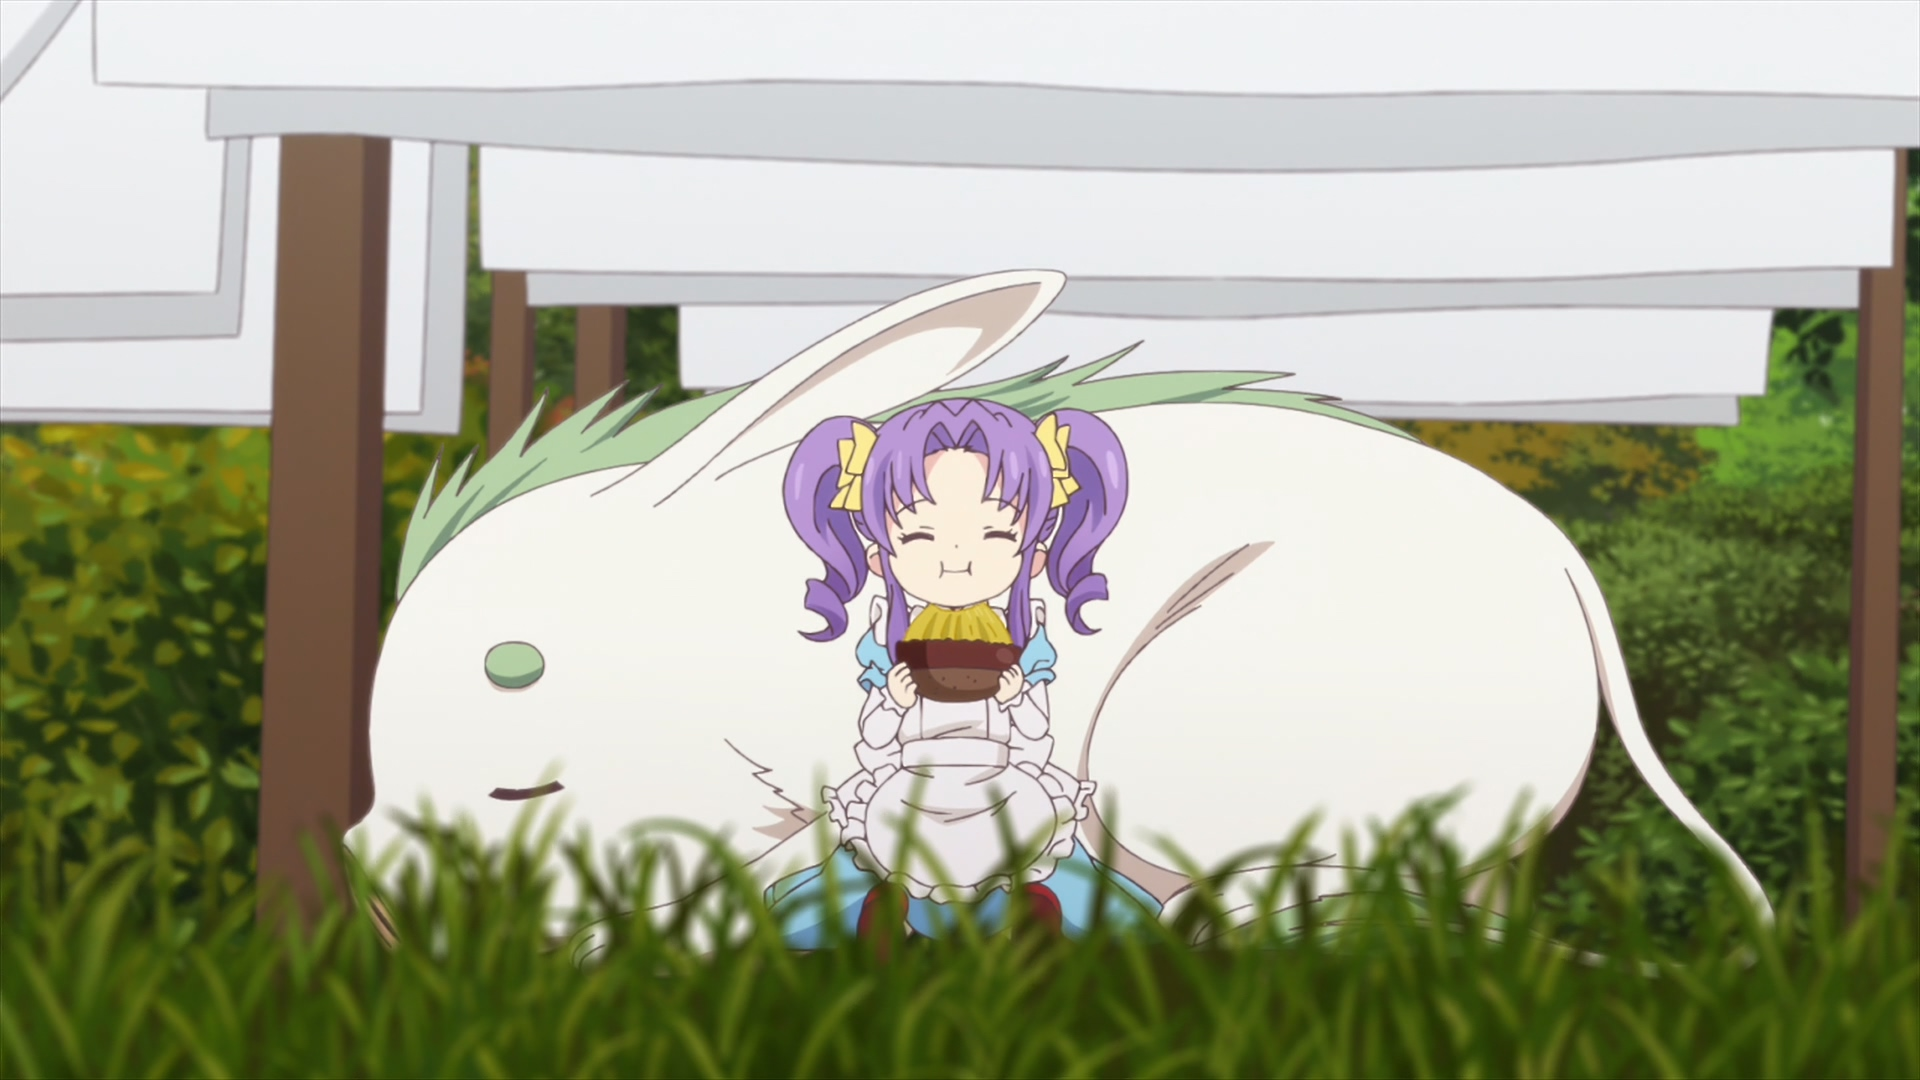瓜之介: (342, 268, 1774, 986)
阿菊: (764, 398, 1163, 969)
